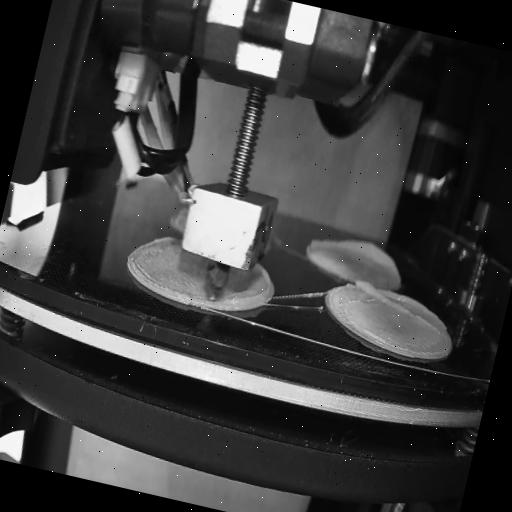over_extrusion: (304, 224, 412, 280), (348, 274, 448, 332), (217, 258, 275, 310)
